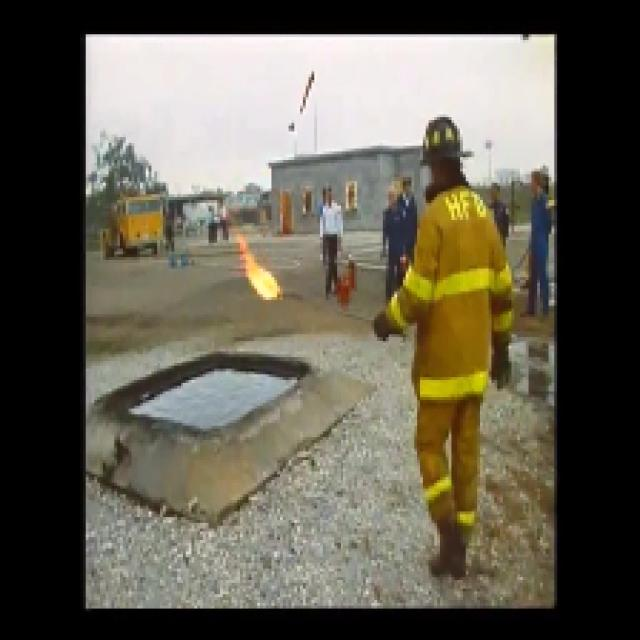fire: (228, 234, 282, 316)
